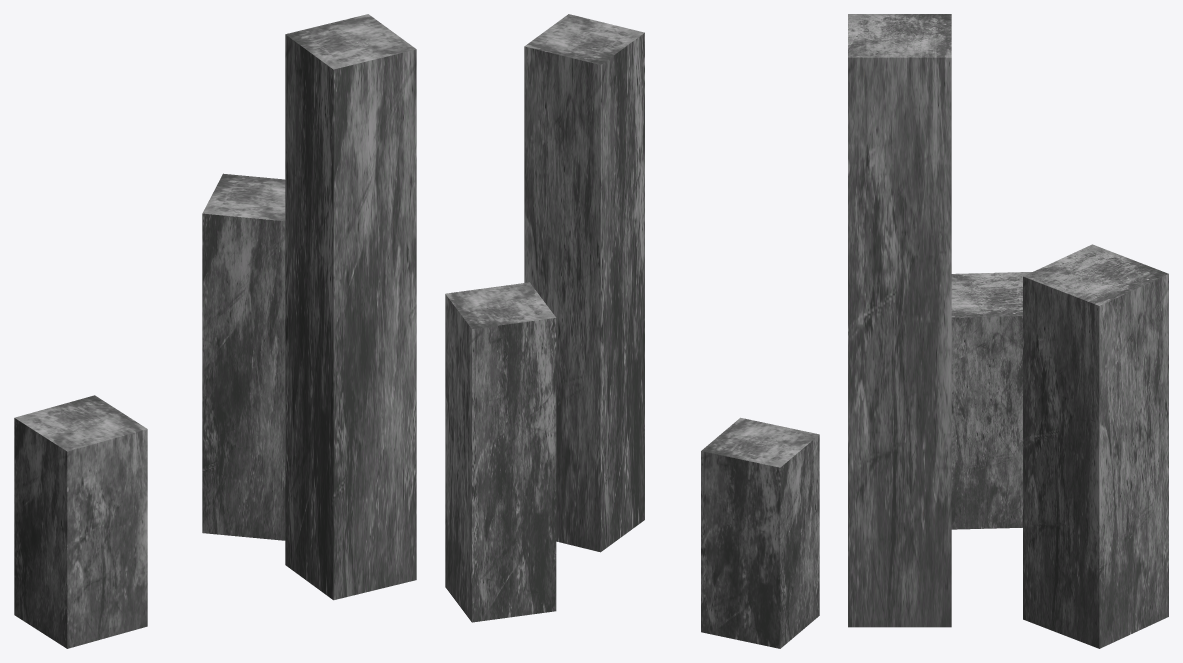
Rendered from silence_debris.obj.
3 views of the same model, side by side, from view 1: azimuth 30°, elevation 25°; view 2: azimuth 150°, elevation 25°; view 3: azimuth 270°, elevation 25° (orthographic). The views are drawn at different scales.
Parts seen in each view (by area): view 1: Cube_Cube.001, Cube.002_Cube.003, Cube.001_Cube.002; view 2: Cube_Cube.001, Cube.001_Cube.002, Cube.002_Cube.003; view 3: Cube_Cube.001, Cube.001_Cube.002, Cube.002_Cube.003.
Boxes of the visible parts, box(x1,y1,x2,y2) form: Cube_Cube.001: box(285, 14, 416, 600); Cube.002_Cube.003: box(14, 395, 147, 648); Cube.001_Cube.002: box(202, 173, 285, 540); Cube_Cube.001: box(524, 14, 644, 552); Cube.001_Cube.002: box(445, 282, 556, 622); Cube.002_Cube.003: box(701, 417, 819, 648); Cube_Cube.001: box(848, 14, 951, 627); Cube.001_Cube.002: box(1023, 244, 1168, 648); Cube.002_Cube.003: box(951, 272, 1031, 529).
Bounding box in the file's own units: 1.28 × 2.03 × 0.995.
